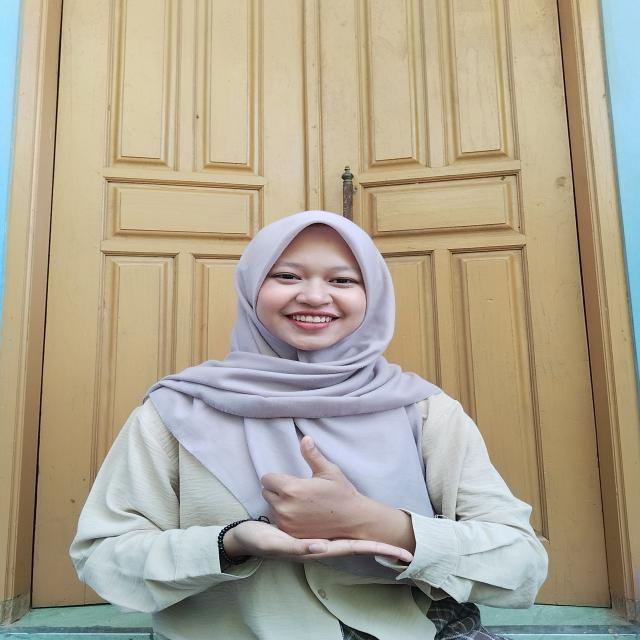cantik: (207, 419, 419, 598)
